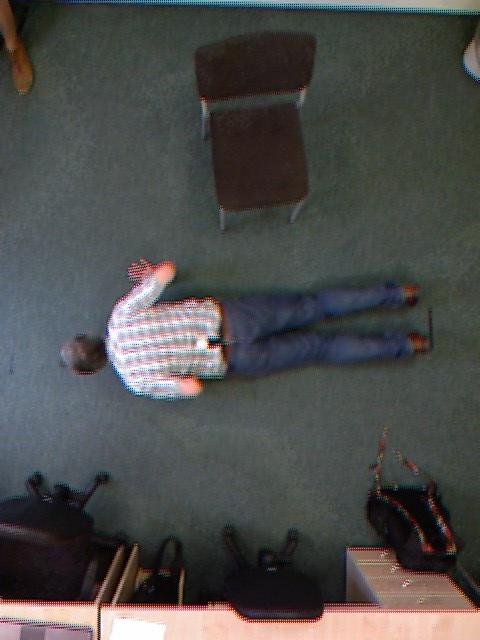fall: (190, 68, 304, 583)
